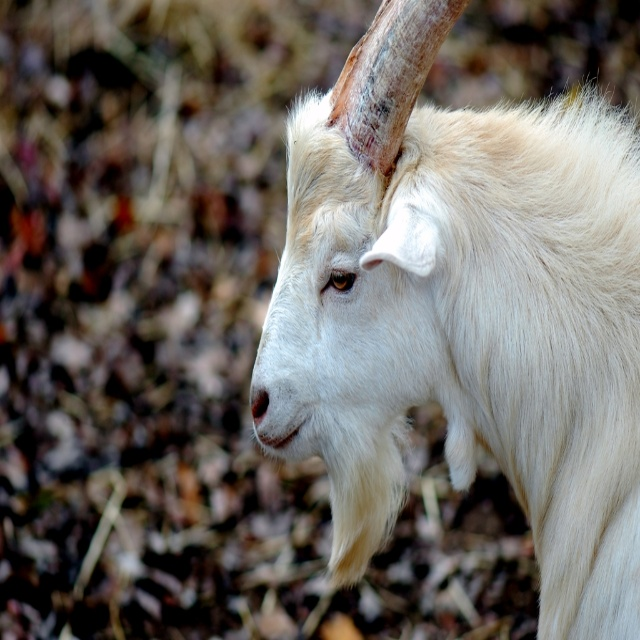Goat: (249, 0, 640, 640)
